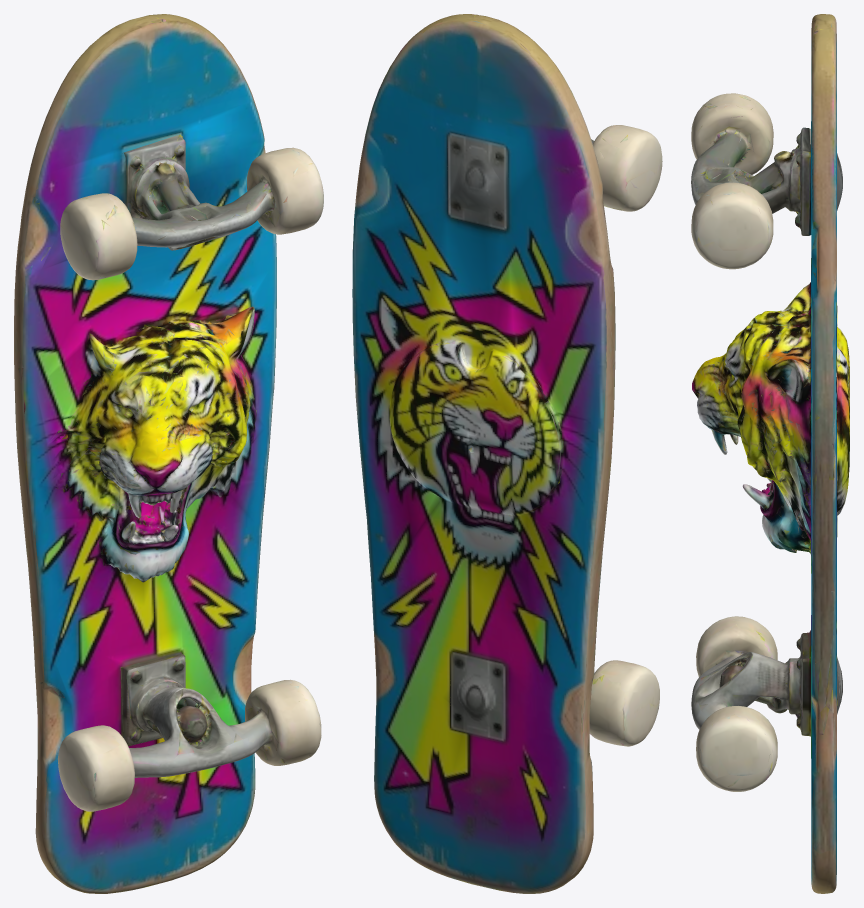
The model's file is skate.glb.
3 views of the same model, side by side, from view 1: azimuth 30°, elevation 25°; view 2: azimuth 150°, elevation 25°; view 3: azimuth 270°, elevation 25° (orthographic). The views are drawn at different scales.
Parts seen in each view (by area): view 1: Mesh_0; view 2: Mesh_0; view 3: Mesh_0.
Part boxes in pixels (box(x1,y1,x2,y2)): Mesh_0: box(14, 14, 323, 893); Mesh_0: box(352, 14, 662, 893); Mesh_0: box(691, 14, 849, 893).
Bounding box in the file's own units: 0.5889 × 1.9 × 0.3225.
1 material, 1 textured.
